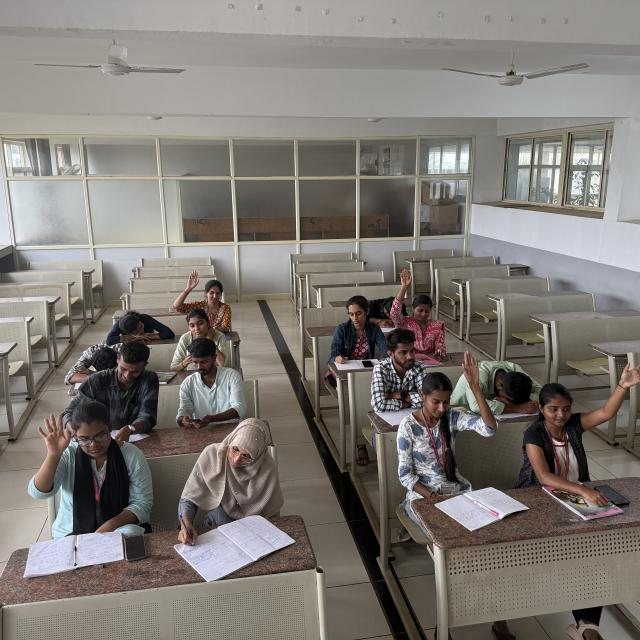Hand Rising: (22, 401, 145, 524), (529, 360, 640, 480), (411, 350, 484, 484), (393, 269, 445, 345), (172, 268, 232, 332)
Reading: (66, 345, 161, 442)
Sleeping: (462, 361, 546, 412), (61, 335, 137, 386), (102, 307, 175, 344), (352, 286, 407, 326)
Using Phone: (177, 336, 247, 430), (169, 310, 231, 373)
Writing: (173, 422, 290, 558), (332, 294, 388, 362)
